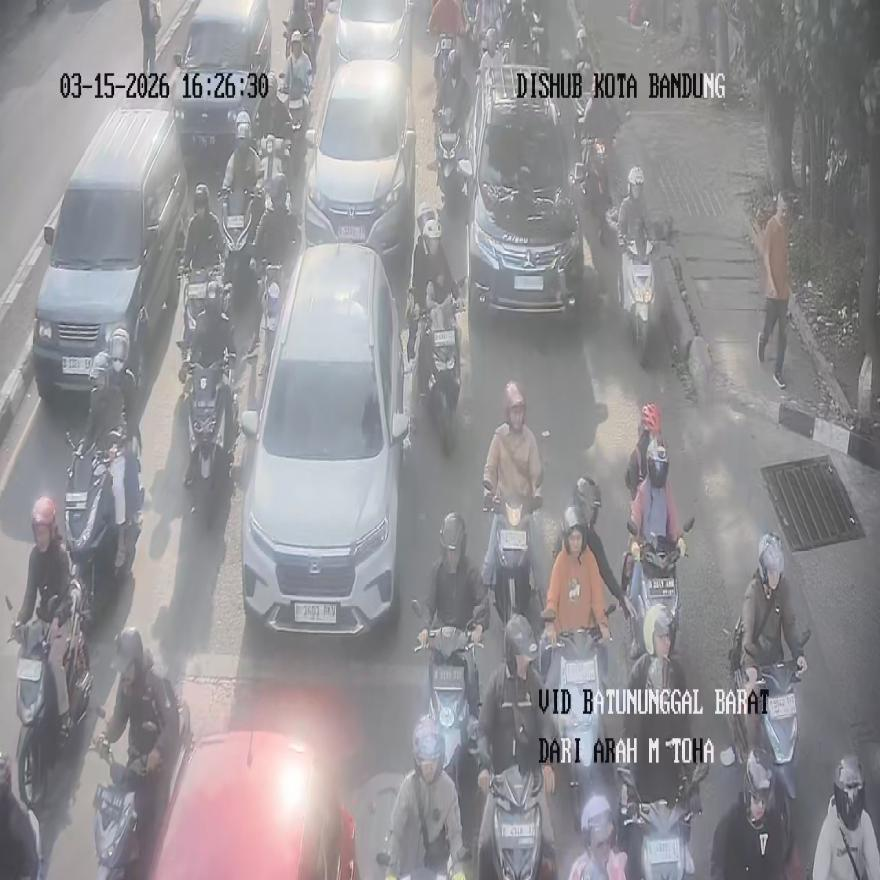Motor: (238, 242, 410, 634), (32, 106, 187, 399), (148, 730, 357, 878), (467, 64, 583, 316), (304, 58, 416, 266), (171, 0, 271, 156), (328, 0, 411, 84)
Truk: (90, 694, 189, 878), (7, 594, 90, 810), (537, 605, 615, 832), (65, 431, 143, 627), (412, 598, 484, 794), (729, 627, 806, 810), (616, 761, 706, 879), (623, 516, 693, 660), (184, 352, 236, 521), (478, 766, 552, 880), (418, 294, 461, 454), (488, 491, 534, 627), (0, 750, 42, 879), (220, 183, 262, 297), (618, 239, 654, 366), (433, 105, 472, 207), (578, 138, 612, 246), (376, 846, 470, 880), (256, 262, 284, 375), (520, 2, 548, 66)
